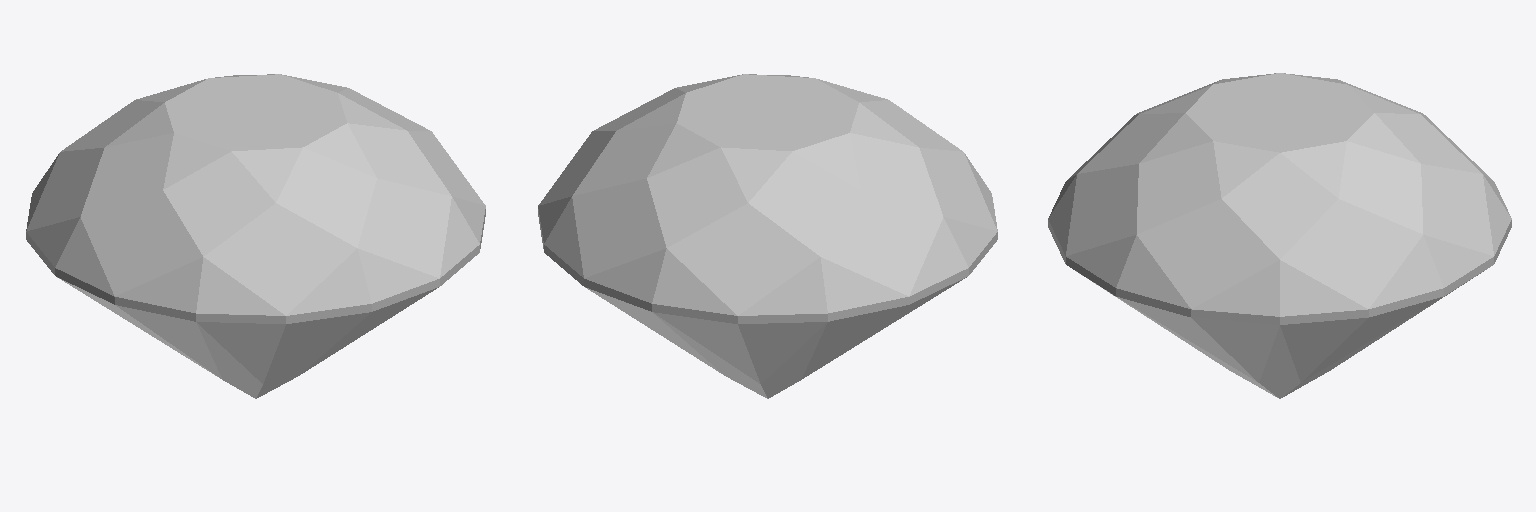
Rendered from button.obj.
3 views of the same model, side by side, from view 1: azimuth 30°, elevation 25°; view 2: azimuth 150°, elevation 25°; view 3: azimuth 270°, elevation 25° (orthographic).
Visible parts, largest first — view 1: button.d~0; view 2: button.d~0; view 3: button.d~0.
Boxes of the visible parts, x1,y1,x2,y2 form: button.d~0: [26, 74, 485, 398]; button.d~0: [538, 74, 997, 398]; button.d~0: [1048, 73, 1511, 398].
Size of the model in its own units: 0.6975 by 0.4752 by 0.6975.